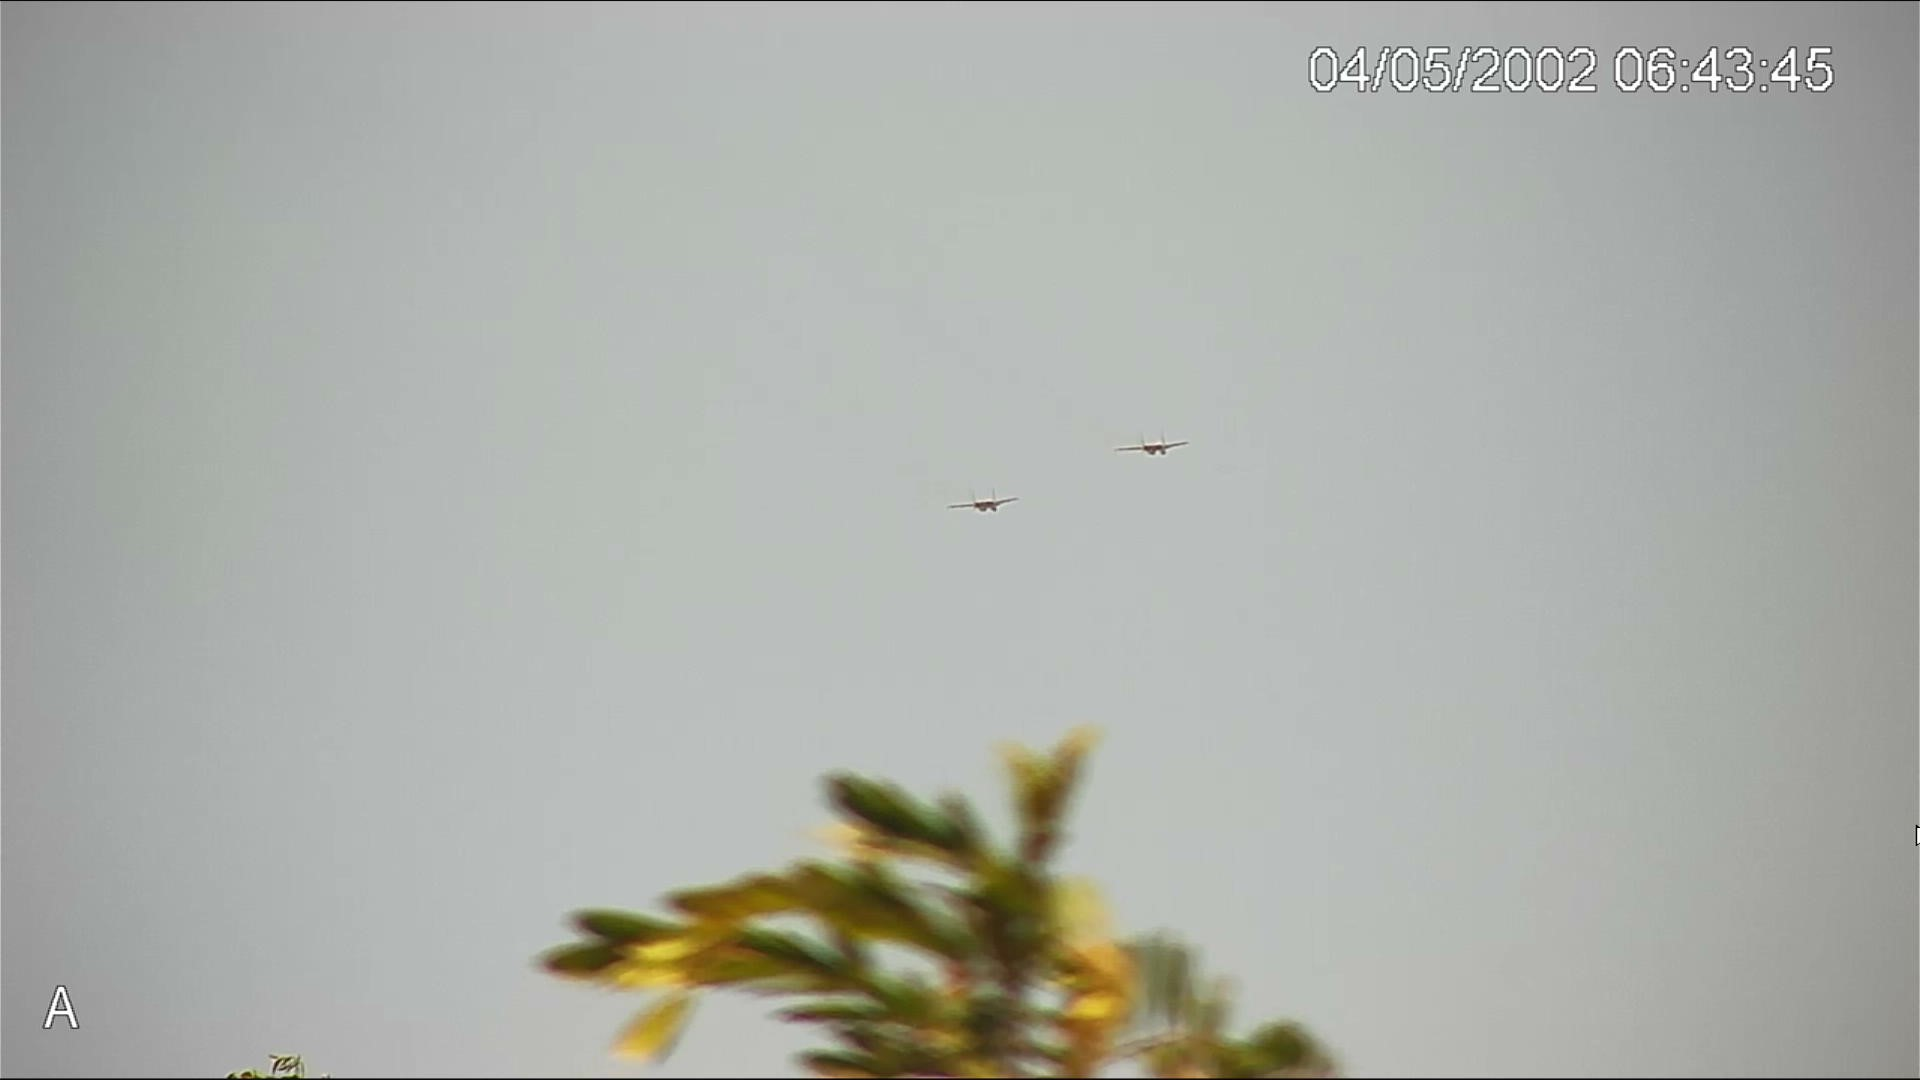SU_30: (1116, 430, 1193, 463), (955, 487, 1009, 516)
